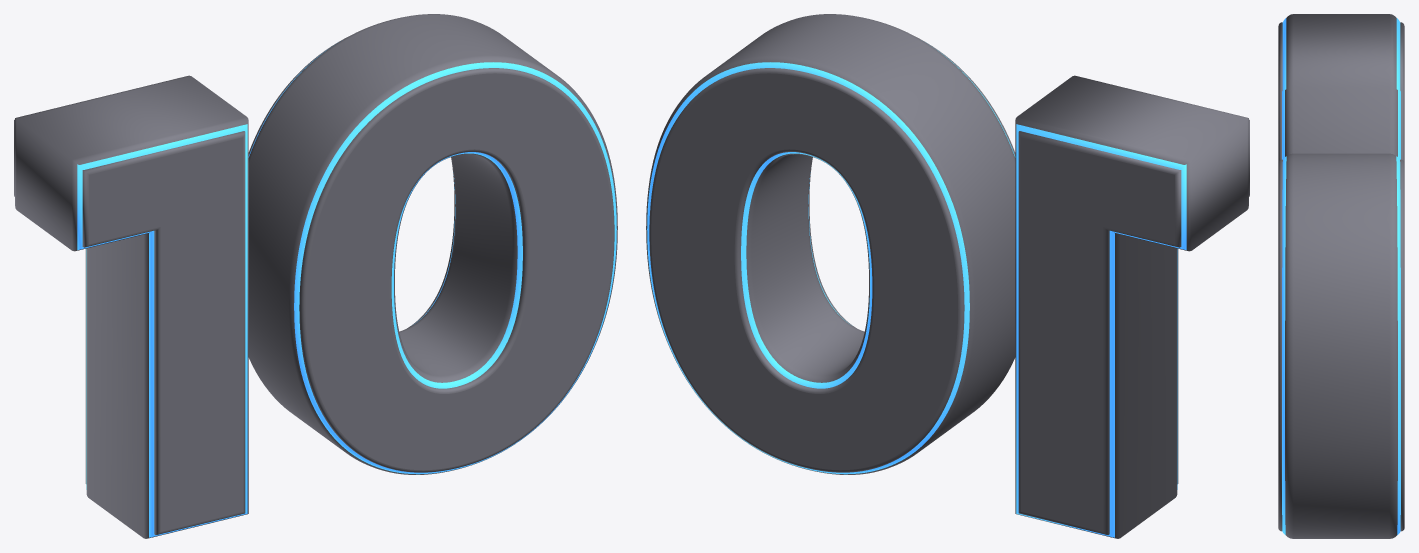
The model's file is ten.glb.
3 renders of one model, left to right at view 1: azimuth 30°, elevation 25°; view 2: azimuth 150°, elevation 25°; view 3: azimuth 270°, elevation 25°, orthographic. The views are drawn at different scales.
Parts seen in each view (by area): view 1: N_10_smaller_2, N_10_side_1, N_10_border_0; view 2: N_10_smaller_2, N_10_side_1, N_10_border_0; view 3: N_10_side_1, N_10_smaller_2, N_10_border_0.
Part boxes in pixels (x1=…): N_10_smaller_2: x1=14, y1=37, x2=614, y2=534; N_10_side_1: x1=15, y1=14, x2=617, y2=538; N_10_border_0: x1=77, y1=50, x2=616, y2=537; N_10_smaller_2: x1=649, y1=37, x2=1249, y2=534; N_10_side_1: x1=646, y1=14, x2=1248, y2=538; N_10_border_0: x1=647, y1=50, x2=1186, y2=537; N_10_side_1: x1=1285, y1=14, x2=1397, y2=538; N_10_smaller_2: x1=1278, y1=22, x2=1404, y2=531; N_10_border_0: x1=1282, y1=18, x2=1400, y2=534.
Bounding box in the file's own units: 0.793 × 0.5695 × 0.184.
